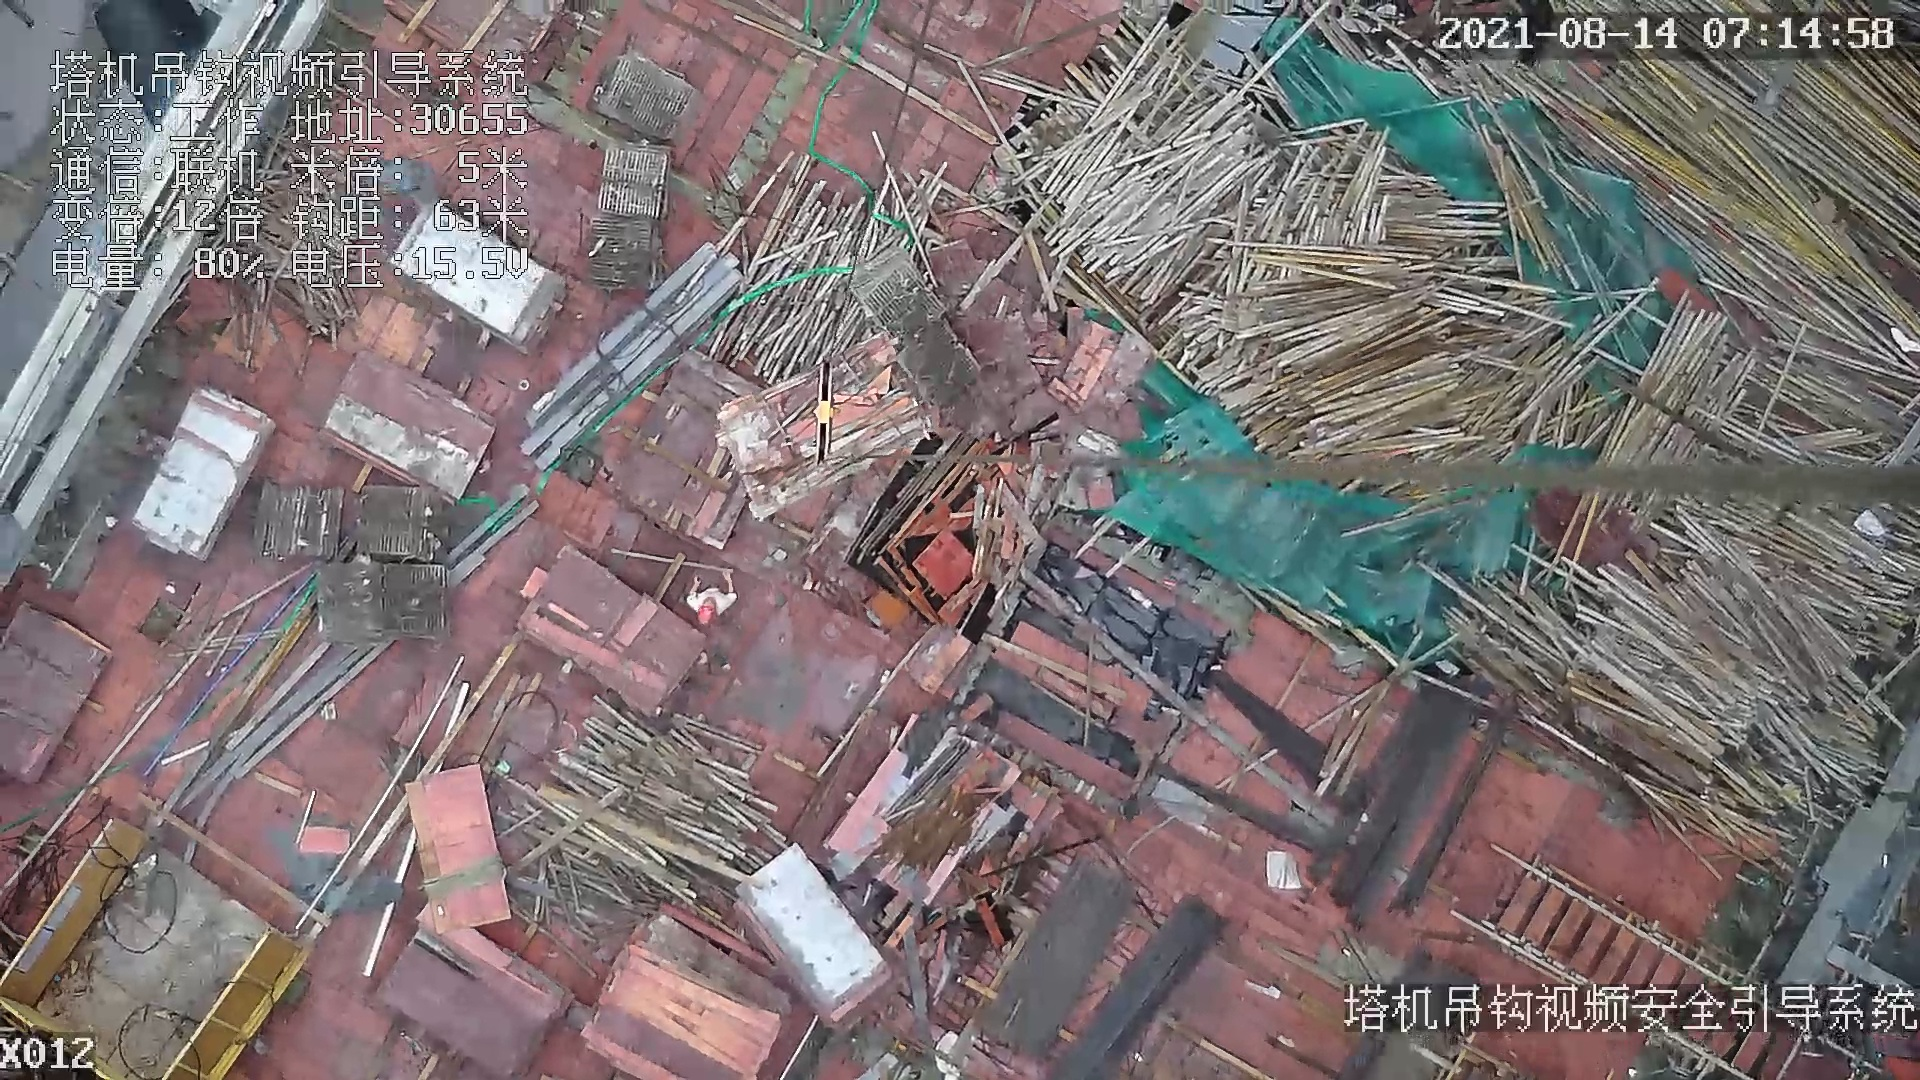helmet: (695, 600, 718, 627)
hook: (804, 355, 838, 473)
person: (680, 564, 744, 631)
